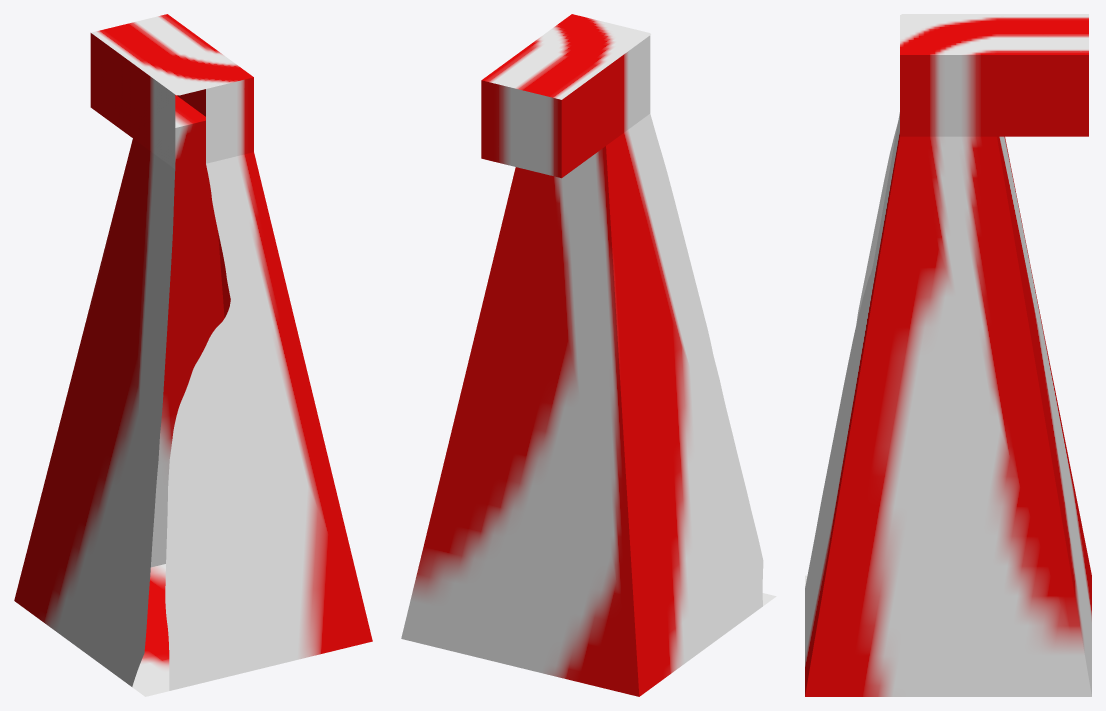
Rendered from turret.obj.
The picture shows the model from 3 angles, left to right: view 1: azimuth 30°, elevation 25°; view 2: azimuth 150°, elevation 25°; view 3: azimuth 270°, elevation 25°; orthographic projection. The views are drawn at different scales.
Parts seen in each view (by area): view 1: Cube; view 2: Cube; view 3: Cube.
Boxes of the visible parts, x1,y1,x2,y2 form: Cube: (14, 14, 372, 696); Cube: (401, 14, 776, 696); Cube: (805, 14, 1091, 696).
Size of the model in its own units: 2 by 4.63 by 2.
